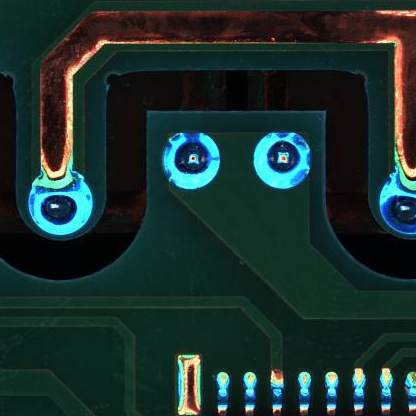spot: (27, 171, 94, 235), (162, 131, 223, 192), (255, 131, 312, 190)
